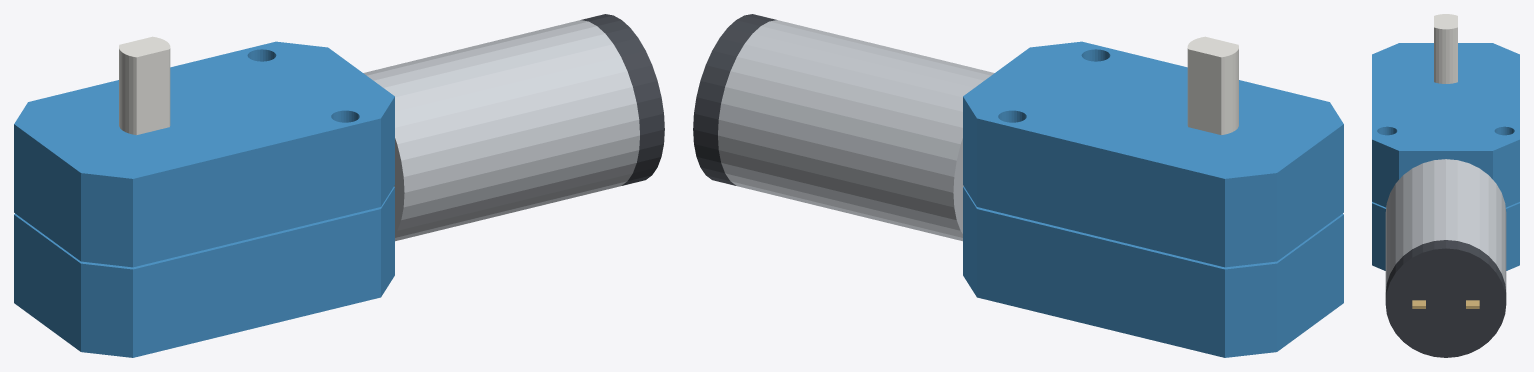
The model's file is model_display.glb.
The picture shows the model from 3 angles, left to right: view 1: azimuth 30°, elevation 25°; view 2: azimuth 150°, elevation 25°; view 3: azimuth 270°, elevation 25°; orthographic projection. The views are drawn at different scales.
Parts seen in each view (by area): view 1: housing_half_1, motor_can, housing_half_0, output_shaft, motor_end_cap; view 2: housing_half_1, motor_can, housing_half_0, output_shaft, motor_end_cap; view 3: housing_half_1, motor_end_cap, motor_can, housing_half_0, output_shaft.
Boxes of the visible parts, box(x1,y1,x2,y2) form: housing_half_1: box(14, 41, 394, 267); motor_can: box(363, 20, 639, 241); housing_half_0: box(14, 186, 394, 357); output_shaft: box(119, 36, 170, 135); motor_end_cap: box(581, 14, 664, 185); housing_half_1: box(963, 41, 1343, 267); motor_can: box(718, 20, 994, 241); housing_half_0: box(963, 186, 1343, 357); output_shaft: box(1187, 36, 1238, 135); motor_end_cap: box(693, 14, 776, 185); housing_half_1: box(1372, 43, 1519, 207); motor_end_cap: box(1385, 240, 1506, 357); motor_can: box(1385, 159, 1506, 291); housing_half_0: box(1372, 202, 1519, 270); output_shaft: box(1434, 14, 1457, 83).
Bounding box in the file's own units: 0.0715 × 0.0297 × 0.022.
